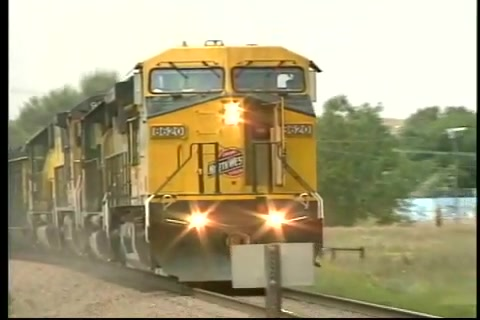train: (11, 40, 328, 292)
